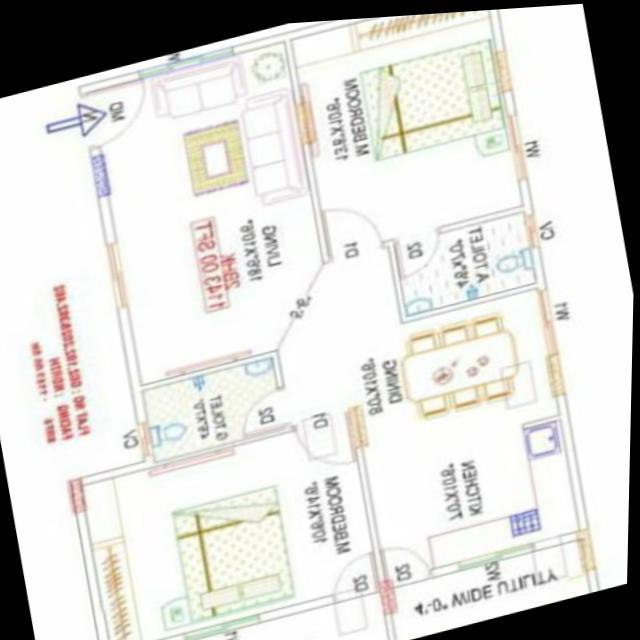Balcony-Sitout: (134, 577, 402, 640)
Bedroom with Toilet: (78, 348, 384, 640), (287, 7, 552, 324)
Dining: (388, 299, 541, 426)
Enterance-Foyer: (26, 62, 161, 156)
Kitchen: (365, 394, 597, 587)
Living: (78, 24, 345, 384)
Toilet: (134, 342, 299, 465), (382, 203, 547, 326)
Utility: (381, 531, 606, 640)
